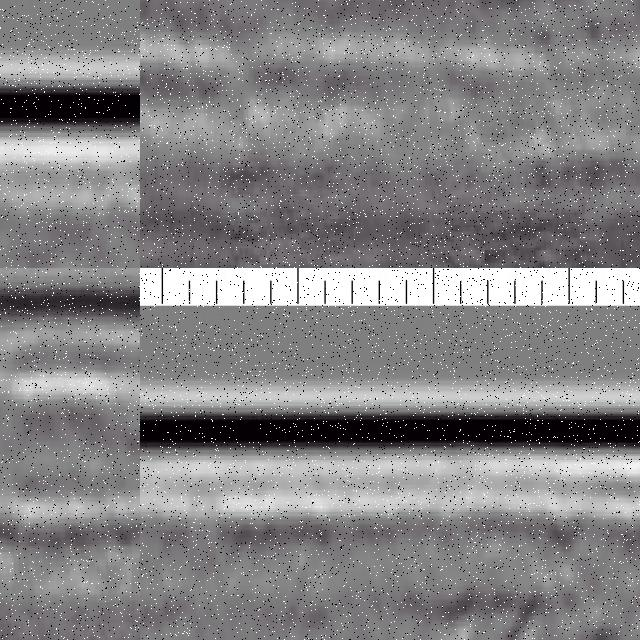loose: (444, 578, 623, 640)
